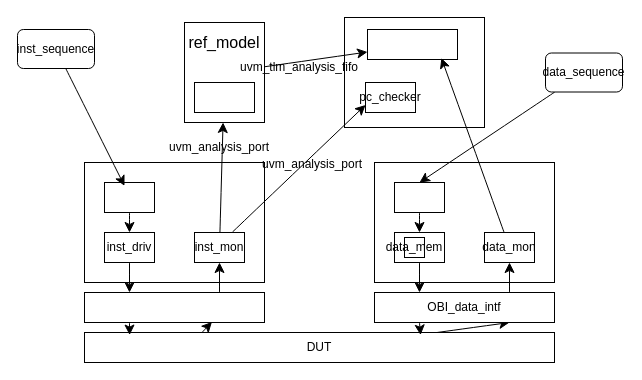
This 642x380 diagram has some shape labels left out. The shapes that lost their labels are listed below. From the top down, each one's centre as x and y in pixels, then its label:
At point 412,44: "alu_data_checker".
At point 224,97: "shadow_reg_File".
At point 129,197: "inst_seq".
At point 419,197: "data_seq".
At point 174,307: "OBI_inst_int".
